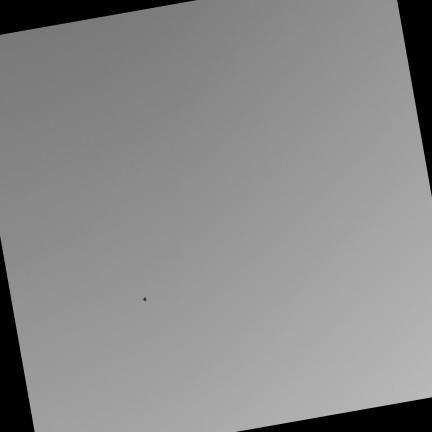Shahed: (143, 297, 146, 301)
